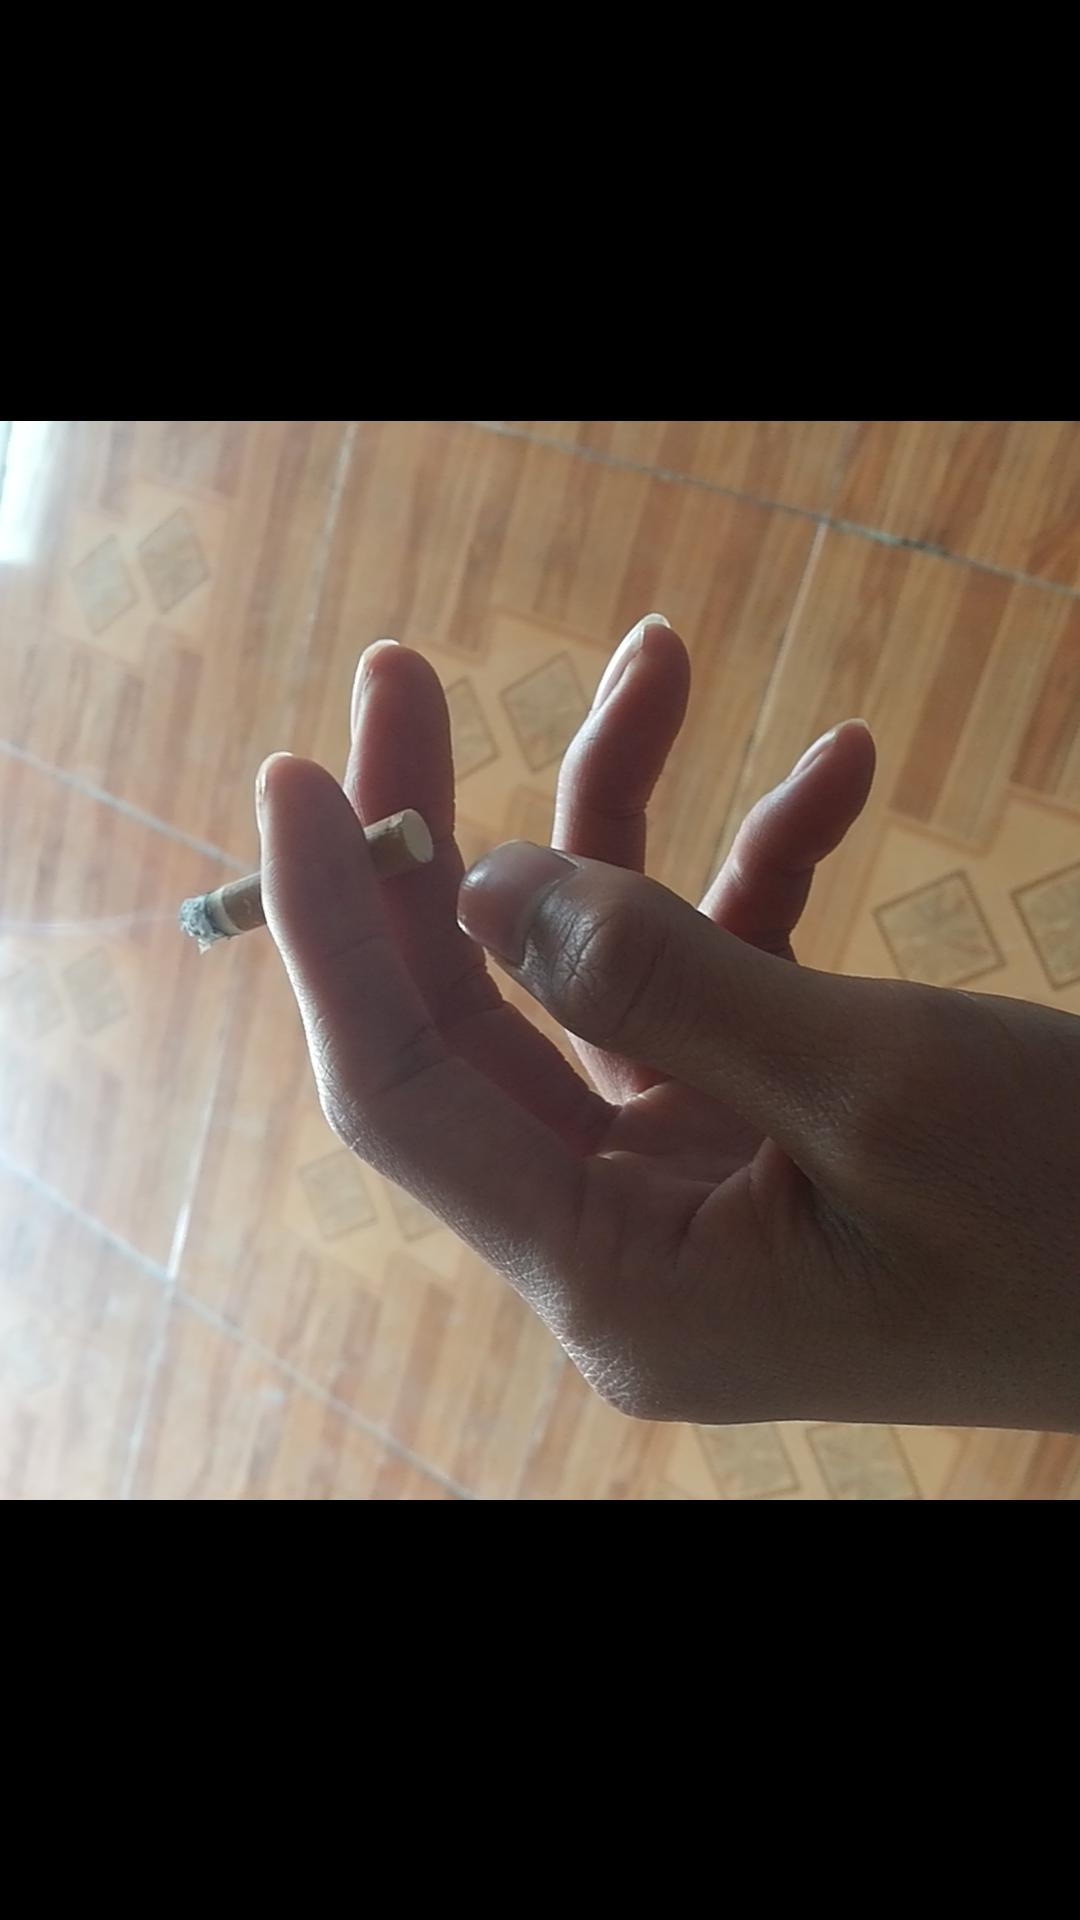Cigarette: (191, 801, 449, 948)
